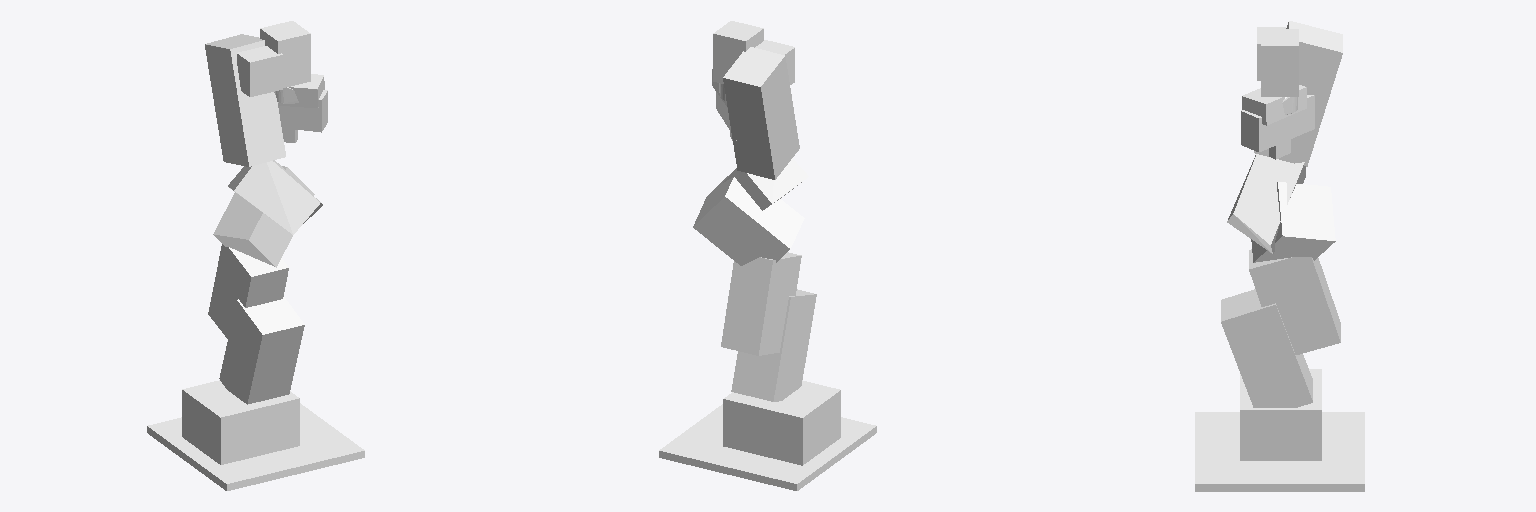
robot.urdf — panda:
<?xml version="1.0" ?>
<!-- =================================================================================== -->
<!-- |    This document was autogenerated by xacro from panda_arm_hand.urdf.xacro      | -->
<!-- |    EDITING THIS FILE BY HAND IS NOT RECOMMENDED                                 | -->
<!-- =================================================================================== -->
<robot name="panda" xmlns:xacro="http://www.ros.org/wiki/xacro">


<!-- MOBILE PLATFORM:
    base link 0
    base link 1
    mobile platform
    prismatic joint in x
    prismatic joint in y
    fixed joint from platform to robot
-->
  <link name="base_link0">
      <inertial>
          <origin rpy="0 0 0" xyz="0 0 0"/>
          <mass value="0.1" />
          <inertia ixx = "0" ixy = "0" ixz = "0"
                  iyx = "0" iyy = "0" iyz = "0"
                  izx = "0" izy = "0" izz = "0" />
      </inertial>
  </link>
  <link name="base_link1">
      <inertial>
          <origin rpy="0 0 0" xyz="0 0 0"/>
          <mass value="0.1" />
          <inertia ixx = "0" ixy = "0" ixz = "0"
                  iyx = "0" iyy = "0" iyz = "0"
                  izx = "0" izy = "0" izz = "0" />
      </inertial>
  </link>

  <link name="mobile_platform">
    <inertial>
       <origin rpy="0 0 0" xyz="0 0 0"/>
       <mass value="10.0"/>
       <inertia ixx="0.14" ixy="0" ixz="0" iyy="0.14" iyz="0" izz="0.28"/>
    </inertial>
    <visual>
      <geometry>
        <box size="0.4 0.4 0.02"/>
      </geometry>
      <material name="panda_white">
    		<color rgba="1. 1. 1. 1."/>
  		</material>
    </visual>
    <collision>
      <geometry>
        <!-- <box size="0.4 0.4 0.02"/> -->
        <mesh filename="meshes/collision/platform.obj"/>
      </geometry>
      <material name="panda_white"/>
    </collision>
  </link>

  <joint name="base_joint_y" type="prismatic">
      <parent link="base_link0"/>
      <child link="base_link1"/>
      <axis xyz="0 1 0"/>
      <limit effort="1000.0" lower="-1" upper="1" velocity="0.5"/>
  </joint>

  <joint name="base_joint_x" type="prismatic">
      <parent link="base_link1"/>
      <child link="mobile_platform"/>
      <axis xyz="1 0 0"/>
      <limit effort="1000.0" lower="-1" upper="1" velocity="0.5"/>
  </joint>

  <joint name="mobile_platform_to_panda" type="fixed">
    <parent link="mobile_platform"/>
    <child link="panda_link0"/>
    <origin rpy="0 0 0" xyz="0 0 0"/>
  </joint>

<!--
    REGULAR PANDA ROBOT STARTS HERE
-->
  <link name="panda_link0">
  	<inertial>
      <origin rpy="0 0 0" xyz="0 0 0.05"/>
       <mass value="2.9"/>
       <inertia ixx="0.1" ixy="0" ixz="0" iyy="0.1" iyz="0" izz="0.1"/>
    </inertial>
    <visual>
      <geometry>
        <mesh filename="meshes/collisionSmall/link0BBox.obj"/>
        <!-- <mesh filename="meshes/collision/link0.obj"/> -->
      </geometry>
      <material name="panda_white">
    		<color rgba="1. 1. 1. 1."/>
  		</material>
    </visual>
    <collision>
      <geometry>
        <!-- <mesh filename="meshes/collision/link0.obj"/> -->
        <mesh filename="meshes/collisionSmall/link0BBox.obj"/>
      </geometry>
      <material name="panda_white"/>
    </collision>
  </link>
  <link name="panda_link1">
  	<inertial>
      <origin rpy="0 0 0" xyz="0 -0.04 -0.05"/>
       <mass value="2.7"/>
       <inertia ixx="0.1" ixy="0" ixz="0" iyy="0.1" iyz="0" izz="0.1"/>
    </inertial>
    <visual>
      <geometry>
        <!-- <mesh filename="meshes/visual/link1.obj"/> -->
        <mesh filename="meshes/collisionSmall/link1BBox.obj"/>
      </geometry>
      <material name="panda_white"/>
    </visual>
    <collision>
      <geometry>
        <!-- <mesh filename="meshes/collision/link1.obj"/> -->
        <mesh filename="meshes/collisionSmall/link1BBox.obj"/>
      </geometry>
      <material name="panda_white"/>
    </collision>
  </link>
  <joint name="panda_joint1" type="revolute">
    <safety_controller k_position="100.0" k_velocity="40.0" soft_lower_limit="-2.8973" soft_upper_limit="2.8973"/>
    <origin rpy="0 0 0" xyz="0 0 0.333"/>
    <parent link="panda_link0"/>
    <child link="panda_link1"/>
    <axis xyz="0 0 1"/>
    <limit effort="87" lower="-2.9671" upper="2.9671" velocity="2.1750"/>
  </joint>
  <link name="panda_link2">
  	<inertial>
      <origin rpy="0 0 0" xyz="0 -0.04 0.06"/>
       <mass value="2.73"/>
       <inertia ixx="0.1" ixy="0" ixz="0" iyy="0.1" iyz="0" izz="0.1"/>
    </inertial>
    <visual>
      <geometry>
        <!-- <mesh filename="meshes/visual/link2.obj"/> -->
        <mesh filename="meshes/collisionSmall/link2BBox.obj"/>
      </geometry>
      <material name="panda_white"/>
    </visual>
    <collision>
      <geometry>
        <!-- <mesh filename="meshes/collision/link2.obj"/> -->
        <mesh filename="meshes/collisionSmall/link2BBox.obj"/>
      </geometry>
      <material name="panda_white"/>
    </collision>
  </link>
  <joint name="panda_joint2" type="revolute">
    <safety_controller k_position="100.0" k_velocity="40.0" soft_lower_limit="-1.7628" soft_upper_limit="1.7628"/>
    <origin rpy="-1.57079632679 0 0" xyz="0 0 0"/>
    <parent link="panda_link1"/>
    <child link="panda_link2"/>
    <axis xyz="0 0 1"/>
    <limit effort="87" lower="-1.8326" upper="1.8326" velocity="2.1750"/>
  </joint>
  <link name="panda_link3">
	  <inertial>
      <origin rpy="0 0 0" xyz="0.01 0.01 -0.05"/>
       <mass value="2.04"/>
       <inertia ixx="0.1" ixy="0" ixz="0" iyy="0.1" iyz="0" izz="0.1"/>
    </inertial>
    <visual>
      <geometry>
        <mesh filename="meshes/collisionSmall/link3BBox.obj"/>
        <!-- <mesh filename="meshes/visual/link3.obj"/> -->
      </geometry>
      <material name="panda_red">
    		<color rgba="1. 1. 1. 1."/>
  		</material>
    </visual>
    <collision>
      <geometry>
        <mesh filename="meshes/collisionSmall/link3BBox.obj"/>
        <!-- <mesh filename="meshes/collision/link3.obj"/> -->
      </geometry>
    </collision>
  </link>
  <joint name="panda_joint3" type="revolute">
    <safety_controller k_position="100.0" k_velocity="40.0" soft_lower_limit="-2.8973" soft_upper_limit="2.8973"/>
    <origin rpy="1.57079632679 0 0" xyz="0 -0.316 0"/>
    <parent link="panda_link2"/>
    <child link="panda_link3"/>
    <axis xyz="0 0 1"/>
    <limit effort="87" lower="-2.9671" upper="2.9671" velocity="2.1750"/>
  </joint>
  <link name="panda_link4">
  	<inertial>
      <origin rpy="0 0 0" xyz="-0.03 0.03 0.02"/>
       <mass value="2.08"/>
       <inertia ixx="0.1" ixy="0" ixz="0" iyy="0.1" iyz="0" izz="0.1"/>
    </inertial>
    <visual>
      <geometry>
        <mesh filename="meshes/collisionSmall/link4BBox.obj"/>
        <!-- <mesh filename="meshes/visual/link4.obj"/> -->
      </geometry>
      <material name="panda_white"/>
    </visual>
    <collision>
      <geometry>
        <mesh filename="meshes/collisionSmall/link4BBox.obj"/>
        <!-- <mesh filename="meshes/collision/link4.obj"/> -->
      </geometry>
      <material name="panda_white"/>
    </collision>
  </link>
  <joint name="panda_joint4" type="revolute">
    <safety_controller k_position="100.0" k_velocity="40.0" soft_lower_limit="-3.0718" soft_upper_limit="-0.0698"/>
    <origin rpy="1.57079632679 0 0" xyz="0.0825 0 0"/>
    <parent link="panda_link3"/>
    <child link="panda_link4"/>
    <axis xyz="0 0 1"/>
    <limit effort="87" lower="-3.1416" upper="0.0" velocity="2.1750"/>
  </joint>
  <link name="panda_link5">
  	<inertial>
      <origin rpy="0 0 0" xyz="0 0.04 -0.12"/>
       <mass value="3"/>
       <inertia ixx="0.1" ixy="0" ixz="0" iyy="0.1" iyz="0" izz="0.1"/>
    </inertial>
    <visual>
      <geometry>
        <mesh filename="meshes/collisionSmall/link5BBox.obj"/>
        <!-- <mesh filename="meshes/visual/link5.obj"/> -->
      </geometry>
      <material name="panda_white"/>
    </visual>
    <collision>
      <geometry>
        <mesh filename="meshes/collisionSmall/link5BBox.obj"/>
        <!-- <mesh filename="meshes/collision/link5.obj"/> -->
      </geometry>
      <material name="panda_white"/>
    </collision>
  </link>
  <joint name="panda_joint5" type="revolute">
    <safety_controller k_position="100.0" k_velocity="40.0" soft_lower_limit="-2.8973" soft_upper_limit="2.8973"/>
    <origin rpy="-1.57079632679 0 0" xyz="-0.0825 0.384 0"/>
    <parent link="panda_link4"/>
    <child link="panda_link5"/>
    <axis xyz="0 0 1"/>
    <limit effort="12" lower="-2.9671" upper="2.9671" velocity="2.6100"/>
  </joint>
  <link name="panda_link6">
  	<inertial>
      <origin rpy="0 0 0" xyz="0.04 0 0"/>
       <mass value="1.3"/>
       <inertia ixx="0.1" ixy="0" ixz="0" iyy="0.1" iyz="0" izz="0.1"/>
    </inertial>
    <visual>
      <geometry>
        <mesh filename="meshes/collisionSmall/link6BBox.obj"/>
        <!-- <mesh filename="meshes/visual/link6.obj"/> -->
      </geometry>
      <material name="panda_white"/>
    </visual>
    <collision>
      <geometry>
        <mesh filename="meshes/collisionSmall/link6BBox.obj"/>
        <!-- <mesh filename="meshes/collision/link6.obj"/> -->
      </geometry>
      <material name="panda_white"/>
    </collision>
  </link>
  <joint name="panda_joint6" type="revolute">
    <safety_controller k_position="100.0" k_velocity="40.0" soft_lower_limit="-0.0175" soft_upper_limit="3.7525"/>
    <origin rpy="1.57079632679 0 0" xyz="0 0 0"/>
    <parent link="panda_link5"/>
    <child link="panda_link6"/>
    <axis xyz="0 0 1"/>
    <limit effort="12" lower="-0.0873" upper="3.8223" velocity="2.6100"/>
  </joint>
  <link name="panda_link7">
  	<inertial>
      <origin rpy="0 0 0" xyz="0 0 0.08"/>
       <mass value=".2"/>
       <inertia ixx="0.1" ixy="0" ixz="0" iyy="0.1" iyz="0" izz="0.1"/>
    </inertial>
    <visual>
      <geometry>
        <!-- <mesh filename="meshes/collision/link7.obj"/> -->
         <mesh filename="meshes/collisionSmall/link7BBox.obj"/> 
      </geometry>
      <material name="panda_white"/>
    </visual>
    <collision>
      <geometry>
        <mesh filename="meshes/collisionSmall/link7BBox.obj"/>
        <!-- <mesh filename="meshes/collision/link7.obj"/> -->
      </geometry>
      <material name="panda_white"/>
    </collision>
  </link>
  <joint name="panda_joint7" type="revolute">
    <safety_controller k_position="100.0" k_velocity="40.0" soft_lower_limit="-2.8973" soft_upper_limit="2.8973"/>
    <origin rpy="1.57079632679 0 0" xyz="0.088 0 0"/>
    <parent link="panda_link6"/>
    <child link="panda_link7"/>
    <axis xyz="0 0 1"/>
    <limit effort="12" lower="-2.9671" upper="2.9671" velocity="2.6100"/>
  </joint>
  <link name="panda_link8">
  	 <inertial>
      <origin rpy="0 0 0" xyz="0 0 0"/>
       <mass value="0.0"/>
       <inertia ixx="0.1" ixy="0" ixz="0" iyy="0.1" iyz="0" izz="0.1"/>
    </inertial>
  </link>
  <joint name="panda_joint8" type="fixed">
    <origin rpy="0 0 0" xyz="0 0 0.107"/>
    <parent link="panda_link7"/>
    <child link="panda_link8"/>
    <axis xyz="0 0 0"/>
  </joint>
  <joint name="panda_hand_joint" type="fixed">
    <parent link="panda_link8"/>
    <child link="panda_hand"/>
    <origin rpy="0 0 -0.785398163397" xyz="0 0 0"/>
  </joint>
  <link name="panda_hand">
  	<inertial>
      <origin rpy="0 0 0" xyz="0 0 0.04"/>
       <mass value=".81"/>
       <inertia ixx="0.1" ixy="0" ixz="0" iyy="0.1" iyz="0" izz="0.1"/>
    </inertial>
    <visual>
      <geometry>
        <!-- <mesh filename="meshes/visual/hand.obj"/> -->
        <mesh filename="meshes/collisionSmall/hand_fingersBBox.obj"/>
      </geometry>
      <material name="panda_white"/>
    </visual>
    <collision>
      <geometry>
        <!-- <mesh filename="meshes/collision/hand_fingers.obj"/> -->
        <mesh filename="meshes/collisionSmall/hand_fingersBBox.obj"/>
      </geometry>
      <material name="panda_white"/>
    </collision>
  </link>
  <link name="panda_leftfinger">
       <contact>
      <friction_anchor/>
      <stiffness value="30000.0"/>
      <damping value="1000.0"/>
      <spinning_friction value="0.1"/>
      <lateral_friction value="1.0"/>
    </contact>
  	<inertial>
      <origin rpy="0 0 0" xyz="0 0.01 0.02"/>
       <mass value="0.1"/>
       <inertia ixx="0.1" ixy="0" ixz="0" iyy="0.1" iyz="0" izz="0.1"/>
    </inertial>
    <visual>
      <geometry>
        <!-- <mesh filename="meshes/visual/finger.obj"/> -->
        <mesh filename="meshes/collisionSmall/fingerBBox.obj"/>
      </geometry>
      <material name="panda_white"/>
    </visual>
    <collision>
      <geometry>
        <!-- <mesh filename="meshes/collision/finger.obj"/> -->
        <mesh filename="meshes/collisionSmall/fingerBBox.obj"/>
      </geometry>
      <material name="panda_white"/>
    </collision>
  </link>
  <link name="panda_rightfinger">
        <contact>
      <friction_anchor/>
      <stiffness value="30000.0"/>
      <damping value="1000.0"/>
      <spinning_friction value="0.1"/>
      <lateral_friction value="1.0"/>
    </contact>

  	<inertial>
      <origin rpy="0 0 0" xyz="0 -0.01 0.02"/>
       <mass value="0.1"/>
       <inertia ixx="0.1" ixy="0" ixz="0" iyy="0.1" iyz="0" izz="0.1"/>
    </inertial>
    <visual>
      <origin rpy="0 0 3.14159265359" xyz="0 0 0"/>
      <geometry>
        <mesh filename="meshes/collisionSmall/fingerBBox.obj"/>
        <!-- <mesh filename="meshes/visual/finger.obj"/> -->
      </geometry>
      <material name="panda_white"/>
    </visual>
    <collision>
      <origin rpy="0 0 3.14159265359" xyz="0 0 0"/>
      <geometry>
        <mesh filename="meshes/collisionSmall/fingerBBox.obj"/>
        <!-- <mesh filename="meshes/collision/finger.obj"/> -->
      </geometry>
      <material name="panda_white"/>
    </collision>
  </link>
  <joint name="panda_finger_joint1" type="prismatic">
    <parent link="panda_hand"/>
    <child link="panda_leftfinger"/>
    <origin rpy="0 0 0" xyz="0 0 0.0584"/>
    <axis xyz="0 1 0"/>
    <limit effort="20" lower="0.0" upper="0.04" velocity="0.2"/>
  </joint>
  <joint name="panda_finger_joint2" type="prismatic">
    <parent link="panda_hand"/>
    <child link="panda_rightfinger"/>
    <origin rpy="0 0 0" xyz="0 0 0.0584"/>
    <axis xyz="0 -1 0"/>
    <limit effort="20" lower="0.0" upper="0.04" velocity="0.2"/>
    <mimic joint="panda_finger_joint1"/>
  </joint>
   <link name="panda_grasptarget">
 <inertial>
      <origin rpy="0 0 0" xyz="0 0 0"/>
       <mass value="0.0"/>
       <inertia ixx="0.1" ixy="0" ixz="0" iyy="0.1" iyz="0" izz="0.1"/>
    </inertial>
   </link>
   <joint name="panda_grasptarget_hand" type="fixed">
    <parent link="panda_hand"/>
    <child link="panda_grasptarget"/>
    <origin rpy="0 0 0" xyz="0 0 0.105"/>
  </joint>
  
</robot>

--- Facts derived from the render (not from the file) ---
3 views of the same robot in one strip: view 1: azimuth 30°, elevation 25°; view 2: azimuth 150°, elevation 25°; view 3: azimuth 270°, elevation 25° (orthographic).
Robot: panda — 16 links, 15 joints (7 revolute, 4 prismatic, 4 fixed); root link base_link0; default pose: all joints at 0.
Visible links, largest first — view 1: panda_link0, panda_link1, mobile_platform, panda_link5, panda_link6, panda_link2, panda_link4, panda_link3, panda_hand, panda_link7; view 2: panda_link5, panda_link0, mobile_platform, panda_link2, panda_link3, panda_link1, panda_link6, panda_link4; view 3: mobile_platform, panda_link1, panda_link2, panda_link0, panda_link3, panda_link4, panda_link5, panda_link6, panda_hand, panda_link7.
Link boxes in pixels (<box>): panda_link0: <box>182,380,299,464</box>; panda_link1: <box>219,297,304,404</box>; mobile_platform: <box>147,403,364,490</box>; panda_link5: <box>205,34,285,166</box>; panda_link6: <box>237,21,310,96</box>; panda_link2: <box>208,244,288,338</box>; panda_link4: <box>228,160,322,234</box>; panda_link3: <box>213,166,314,267</box>; panda_hand: <box>278,90,327,132</box>; panda_link7: <box>274,74,324,107</box>; panda_link5: <box>723,47,799,179</box>; panda_link0: <box>723,380,840,465</box>; mobile_platform: <box>659,404,876,490</box>; panda_link2: <box>721,252,801,355</box>; panda_link3: <box>693,174,804,265</box>; panda_link1: <box>731,289,816,401</box>; panda_link6: <box>713,21,794,84</box>; panda_link4: <box>723,158,808,210</box>; mobile_platform: <box>1195,412,1364,491</box>; panda_link1: <box>1221,289,1312,407</box>; panda_link2: <box>1249,249,1340,354</box>; panda_link0: <box>1240,369,1321,460</box>; panda_link3: <box>1251,182,1335,262</box>; panda_link4: <box>1227,154,1305,253</box>; panda_link5: <box>1254,21,1342,166</box>; panda_link6: <box>1257,27,1298,96</box>; panda_hand: <box>1241,95,1314,151</box>; panda_link7: <box>1242,85,1306,125</box>.
Size in the robot's own frame: 0.4 by 0.4 by 1.13 metres.
11 mesh visuals loaded from 10 distinct referenced files (10 OBJ).